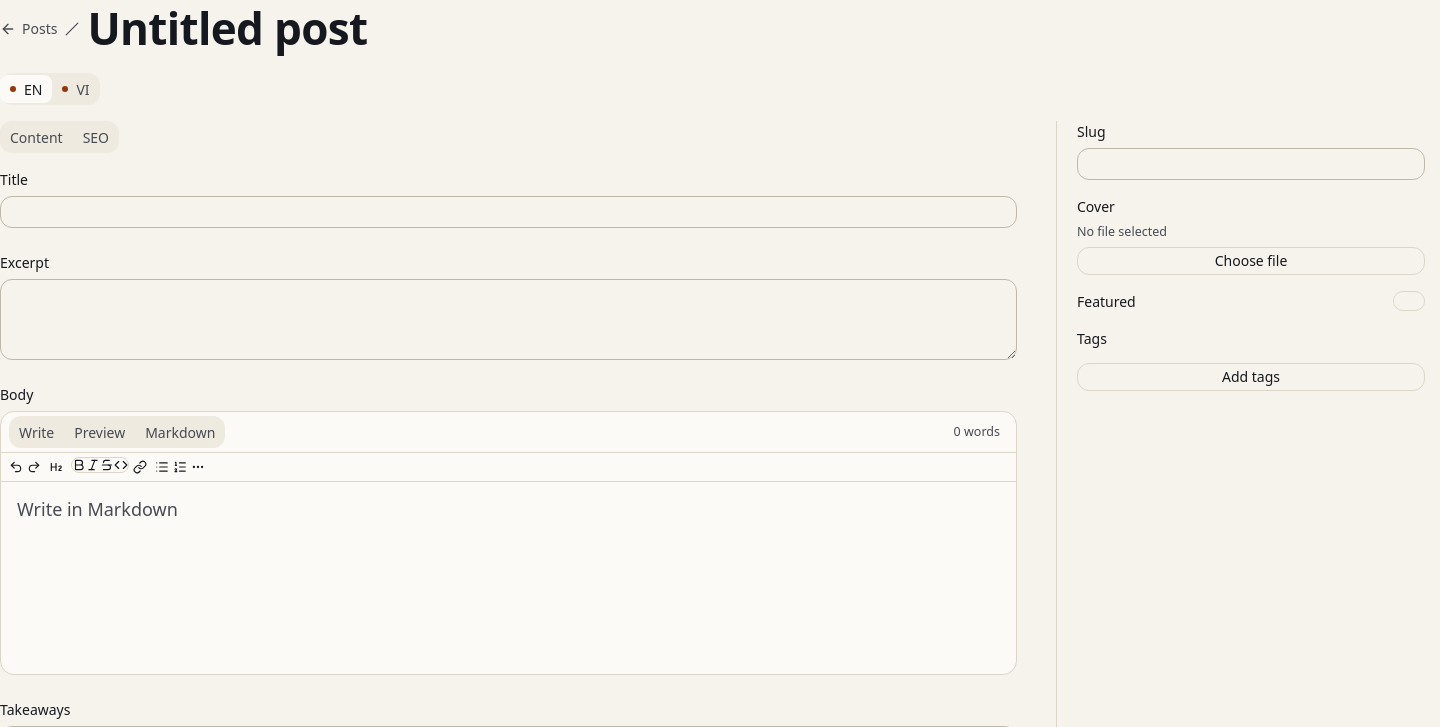
Test: AdminPostsEditor › adds a tag created from the combobox
Click the button "Add tags": (1251, 377) [1077,363,1425,391]
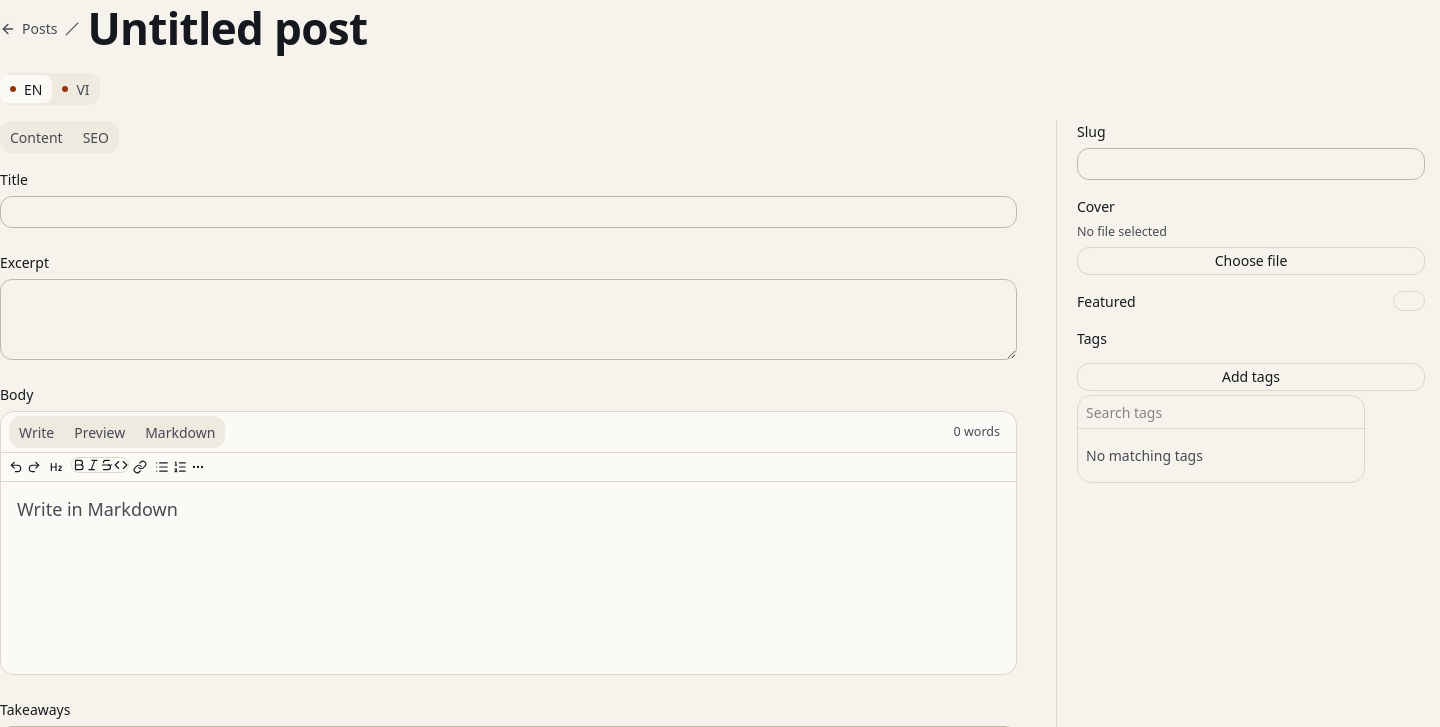
In the dropdown labelled "Search tags": (1221, 412) [1086,396,1356,428], type "sql"
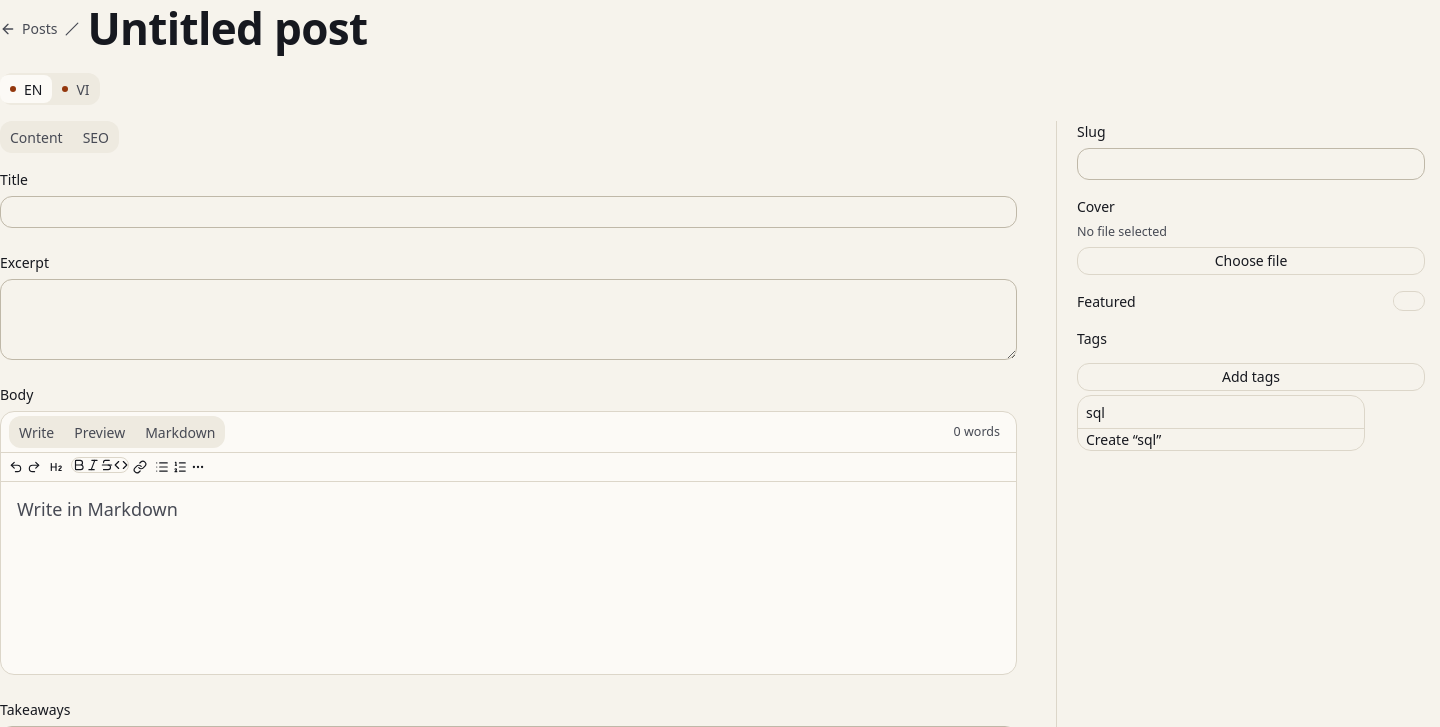
Click the option "Create “sql”": (1124, 440) [1086,430,1161,449]
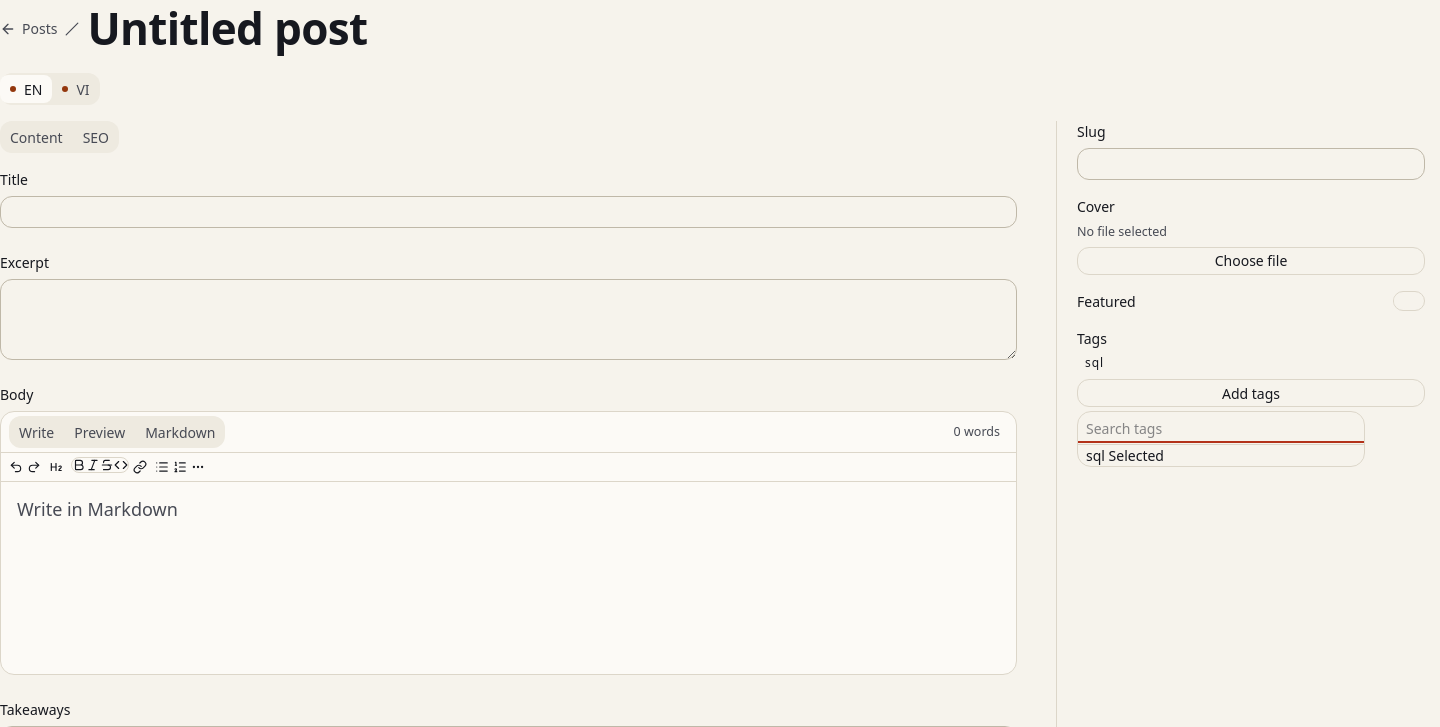
Expected: the text "sql" is shown, [1085,354,1104,371]
